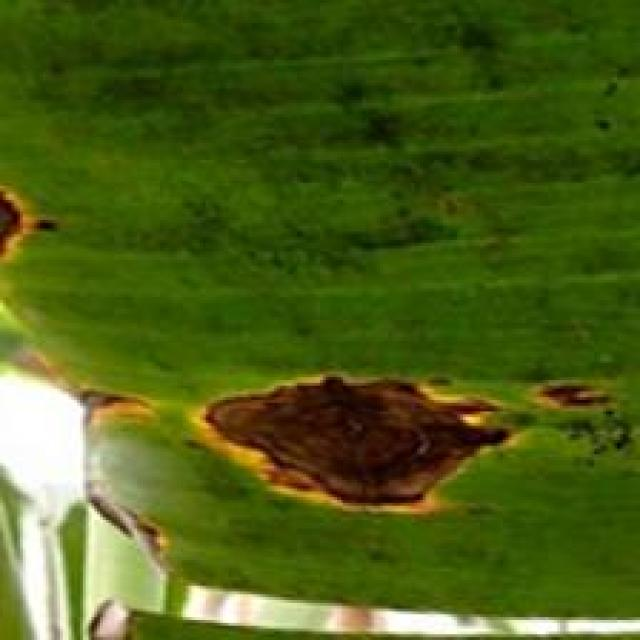Bacterial_spot: (177, 301, 524, 527), (82, 478, 190, 582), (45, 360, 152, 456), (531, 356, 631, 442), (0, 169, 60, 294), (52, 594, 175, 637)
